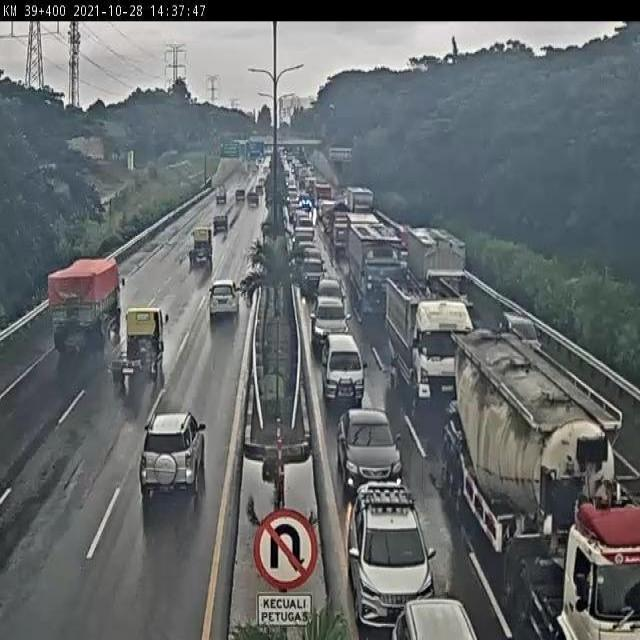car: (349, 490, 436, 630)
truck-l-: (381, 271, 470, 405), (51, 253, 124, 352), (346, 220, 408, 323), (408, 229, 472, 316)
truck-s-: (110, 306, 165, 382), (188, 227, 217, 270)
truck-xl-: (453, 337, 640, 640)
